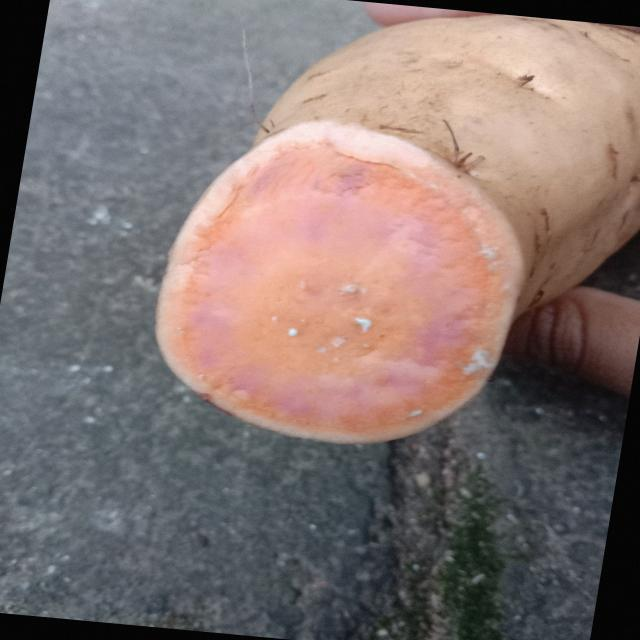Healthy Sweet Potato: (157, 121, 523, 444)
